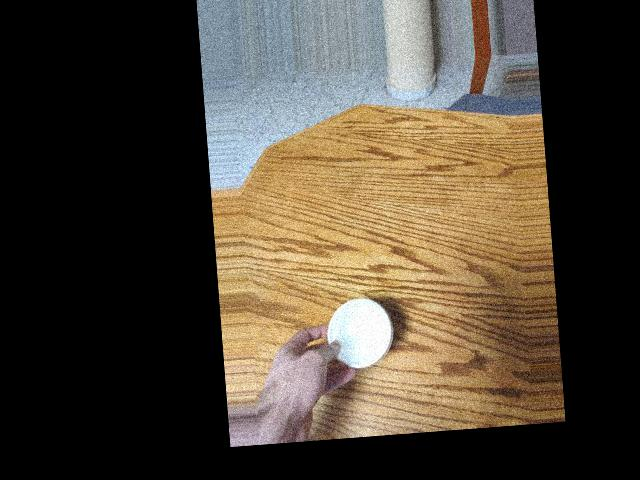cotage: (315, 291, 400, 376)
